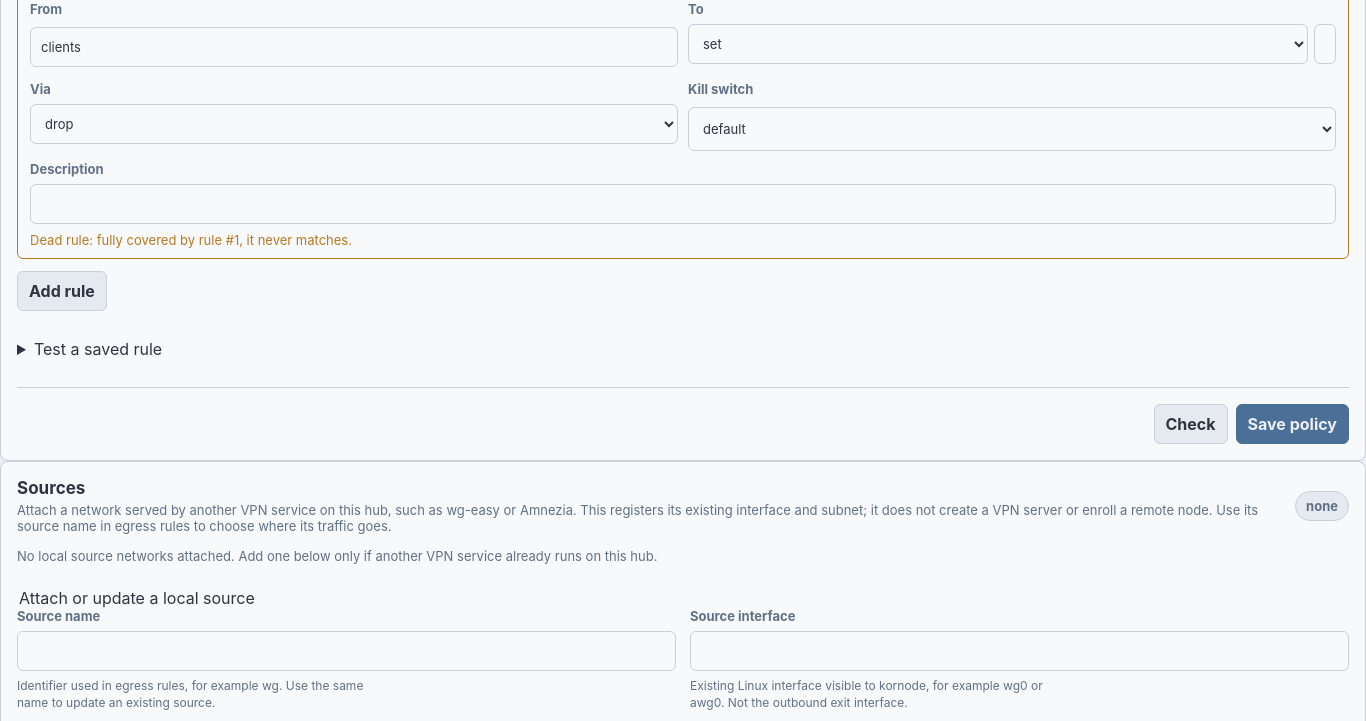
Scenario: Hub egress › explains a flow against the saved policy and highlights the matching rule
(page scrolled)
Click the heading "Test a saved rule" at (98, 349), box [34,339,162,359]
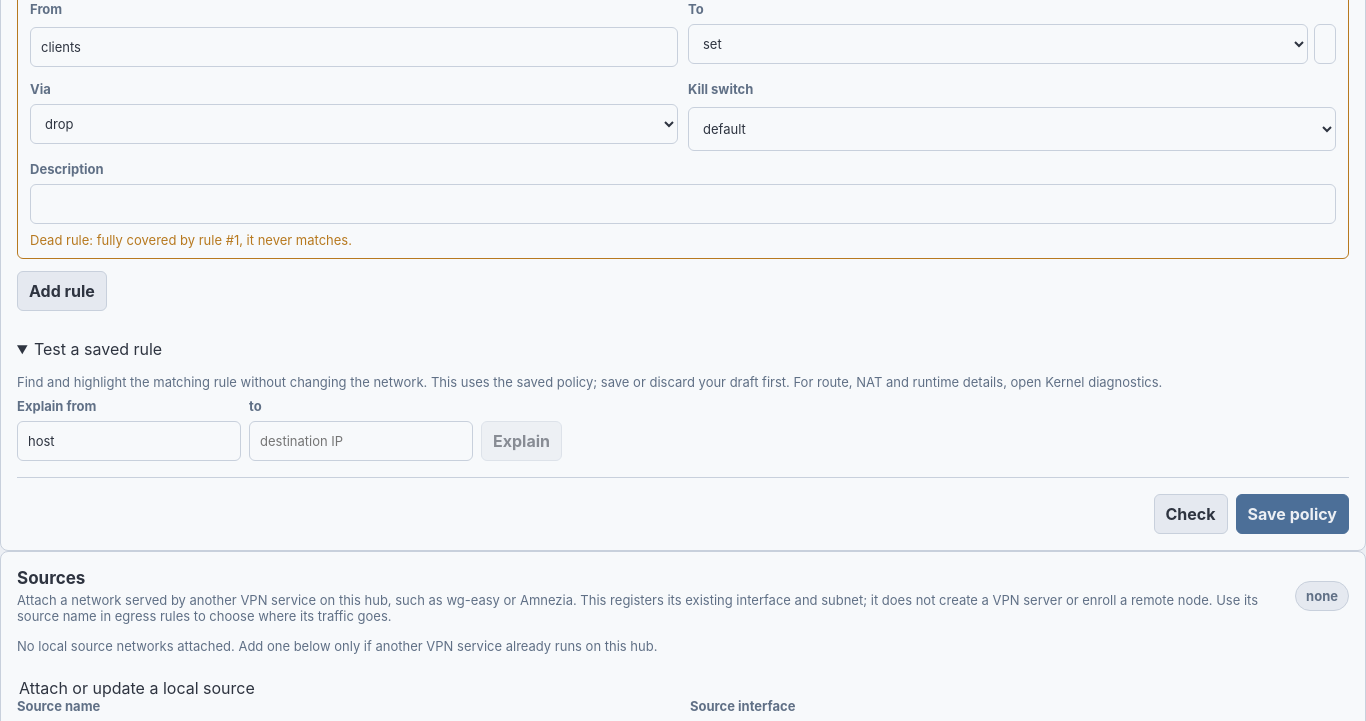
Type "203.0.113.5" into the field named "Explain destination" at (361, 441), box [249,421,473,461]
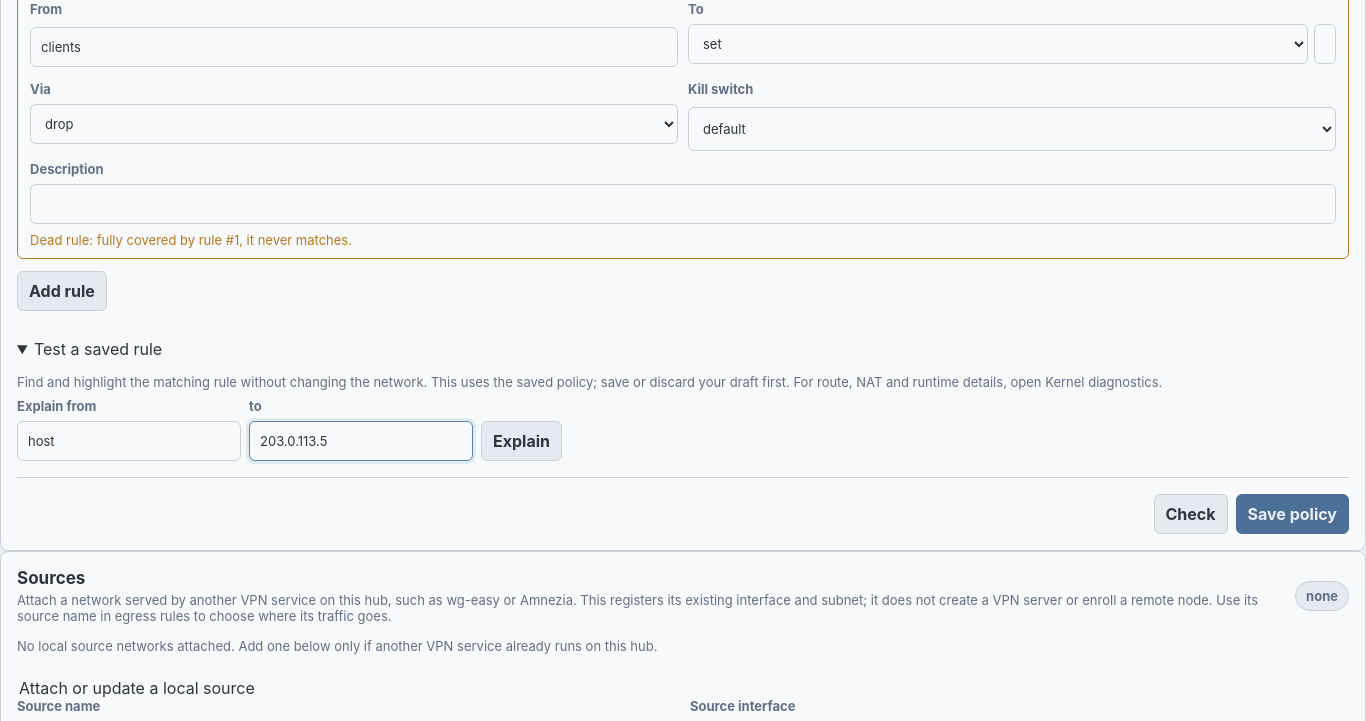
Click the button "Explain" at (522, 441), box [481,421,562,461]
(page scrolled)
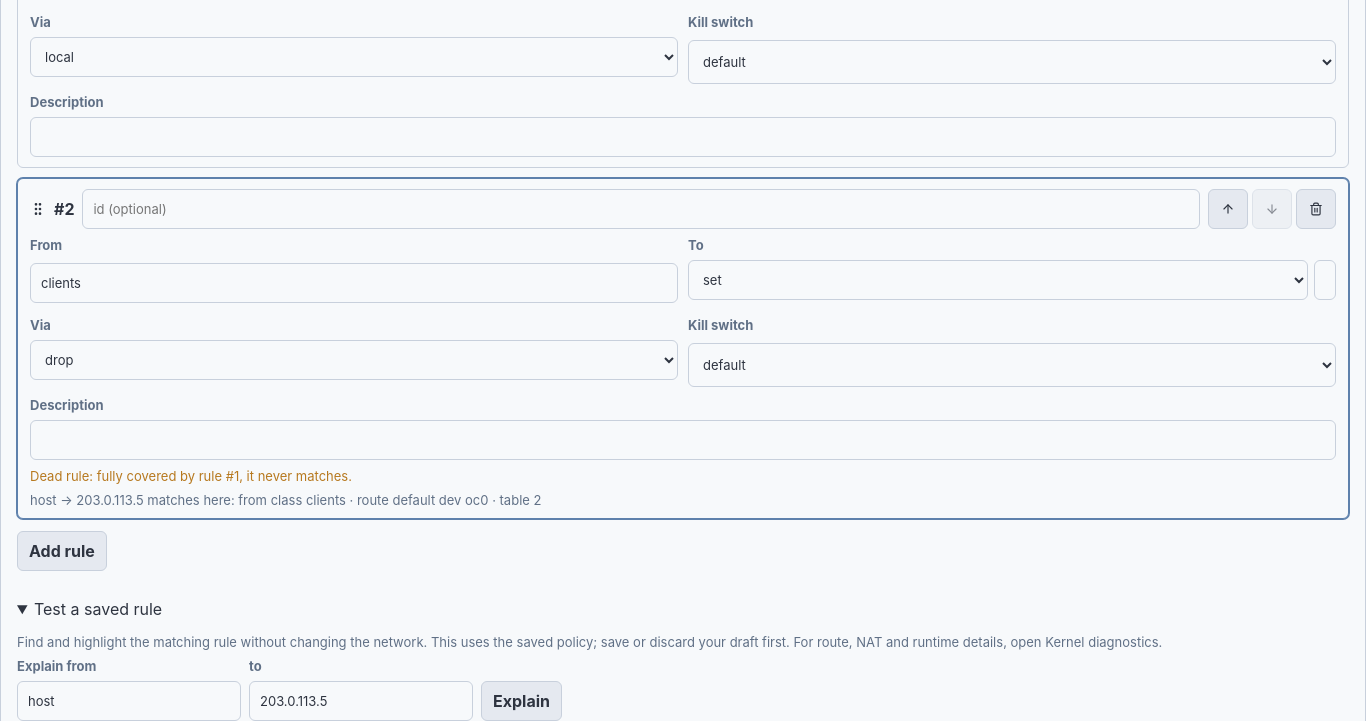
Now the list item with test id "egress-rule-1" shows "matches here", box [144,492,238,508]
